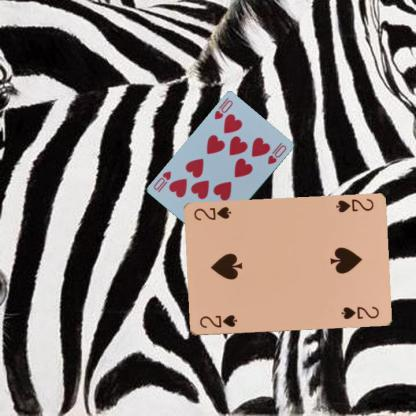10h: (211, 98, 234, 121)
2s: (196, 312, 238, 330), (334, 197, 374, 214)
